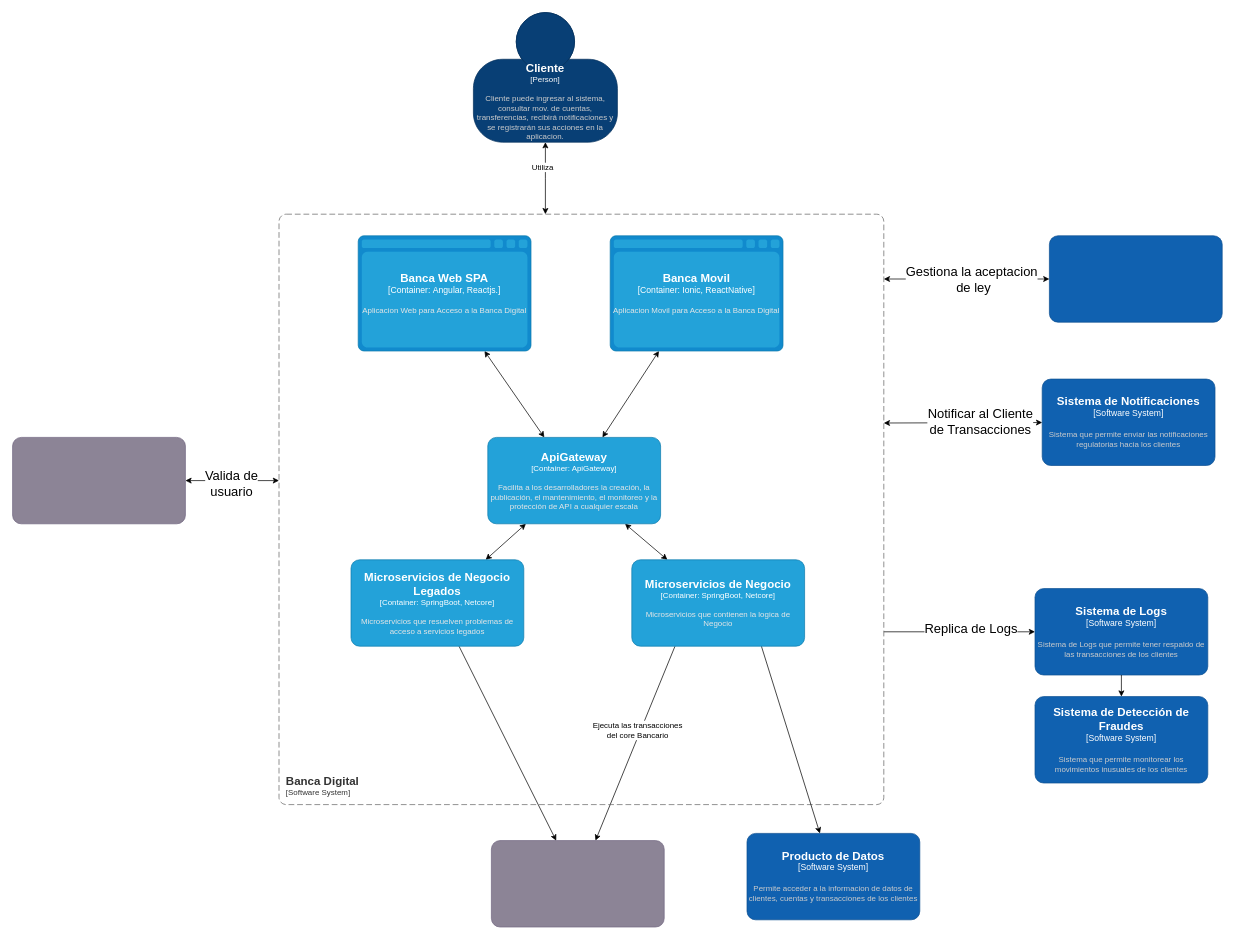
This 1235x940 diagram has some shape labels left out. Here are the shapes that lost their labels. From the top down, the centre of each, then its label:
the point at 1135,278: LOPDP [Software System] Sistema de Ley de Proteccion de Datos Personales
the point at 98,480: Auth0 [Software System] Sistema de Autenticacion.
the point at 577,883: Core [Software System] Sistema de Core Bancario.
